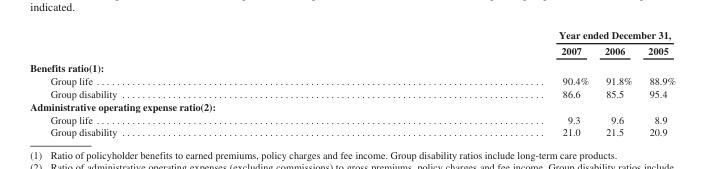table: (29, 28, 675, 137)
table column: (29, 28, 337, 137), (337, 28, 596, 137), (596, 28, 639, 137), (639, 28, 675, 137)
table column header: (29, 28, 675, 58)
table projected row header: (29, 58, 675, 74), (29, 99, 675, 112)
table row: (29, 42, 675, 58), (29, 58, 675, 74), (29, 28, 675, 42), (29, 74, 675, 87), (29, 99, 675, 112), (29, 112, 675, 125), (29, 87, 675, 99), (29, 125, 675, 137)
table spanning cell: (337, 28, 675, 42)
